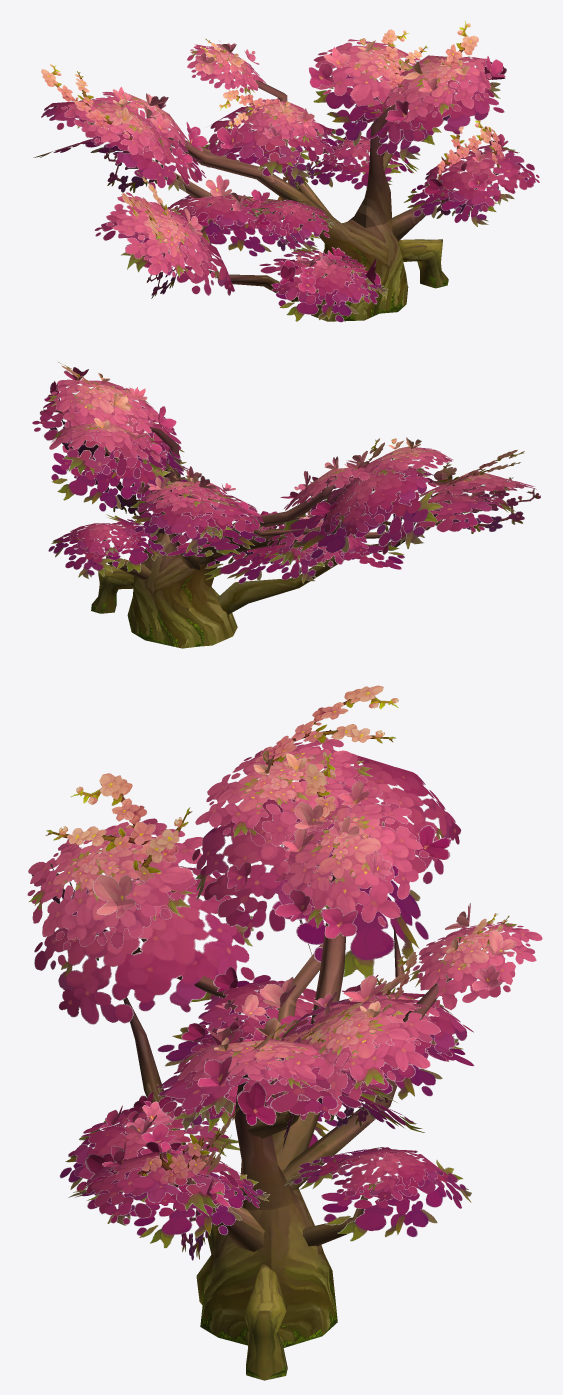
File: peach_01.FBX
3 renders of one model, top to bottom at view 1: azimuth 30°, elevation 25°; view 2: azimuth 150°, elevation 25°; view 3: azimuth 270°, elevation 25°, orthographic. The views are drawn at different scales.
Visible parts, largest first — view 1: peach_01; view 2: peach_01; view 3: peach_01.
Part boxes in pixels (left/top/right/bottom): peach_01: left=33, top=20, right=539, bottom=322; peach_01: left=32, top=361, right=540, bottom=648; peach_01: left=27, top=685, right=542, bottom=1380.
Size of the model in its own units: 2139 by 1215 by 1380.
Materials: 2 (2 with a texture image).
